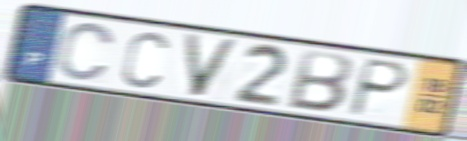2: (232, 42, 292, 109)
B: (283, 47, 355, 115)
C: (55, 20, 118, 83), (119, 28, 171, 90)
P: (344, 56, 412, 119)
V: (181, 31, 243, 100)
